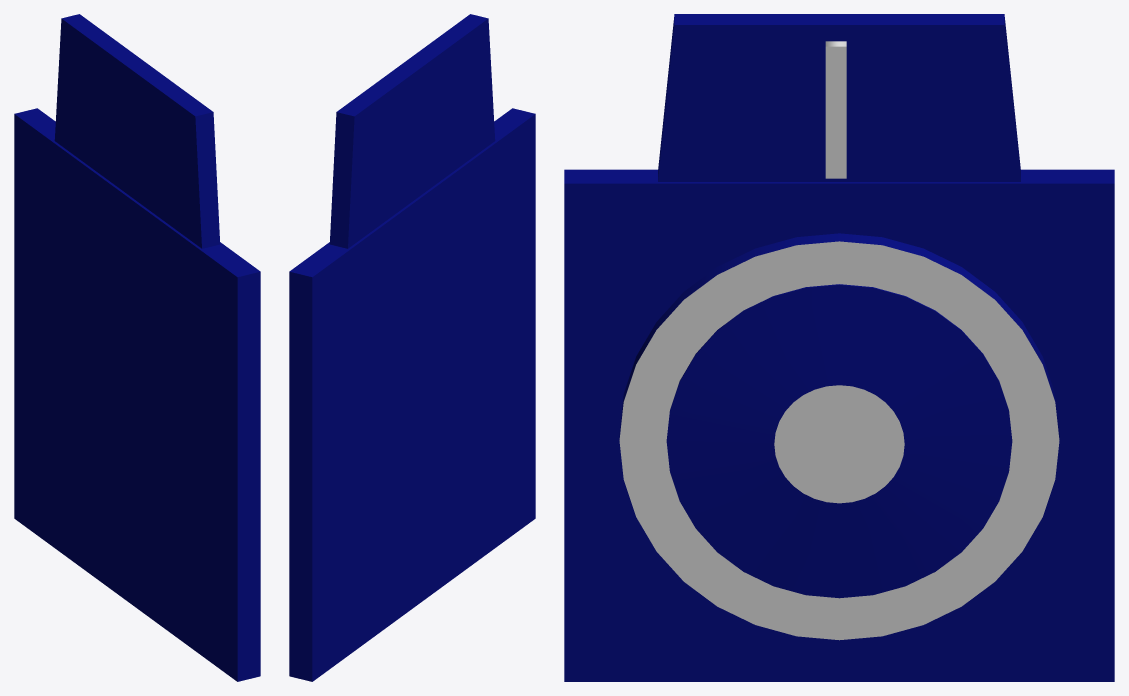
Rendered from Target1Blue.fbx.
3 views of the same model, side by side, from view 1: azimuth 30°, elevation 25°; view 2: azimuth 150°, elevation 25°; view 3: azimuth 270°, elevation 25° (orthographic). The views are drawn at different scales.
Visible parts, largest first — view 1: Target1Blue; view 2: Target1Blue; view 3: Target1Blue, 1.
Boxes of the visible parts, x1,y1,x2,y2 form: Target1Blue: (14,14,260,681); Target1Blue: (289,14,535,681); Target1Blue: (564,14,1114,681); 1: (825,41,846,178).
Size of the model in its own units: 21.93 by 263 by 200.
